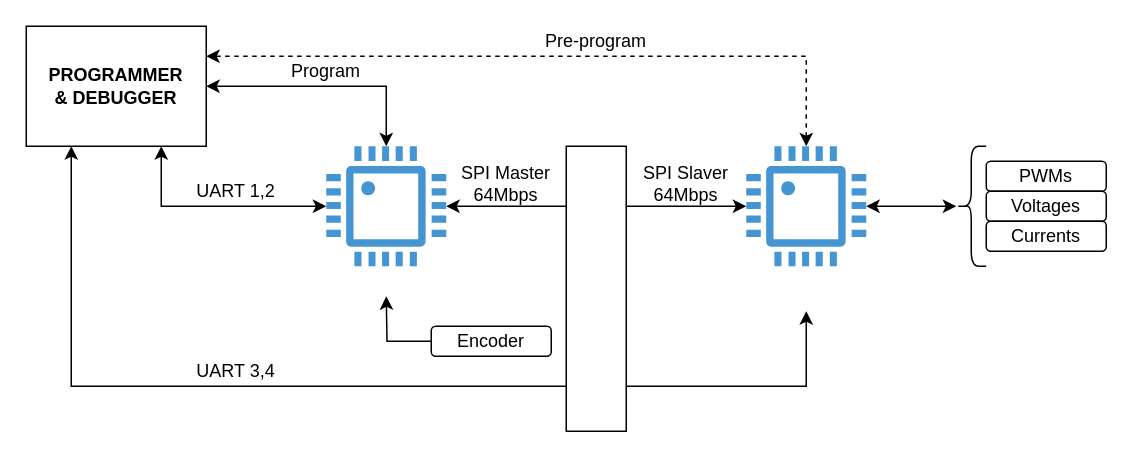
Some shapes in this 1133 by 458 pixel diagram are drawn without their labels. Here are the shapes that lost their labels. From the top down, the centre of each, then its label:
At point 386,206: "PROCESS MCU".
At point 806,206: "INVERTER MCU".
At point 595,288: "ISOLATION".
